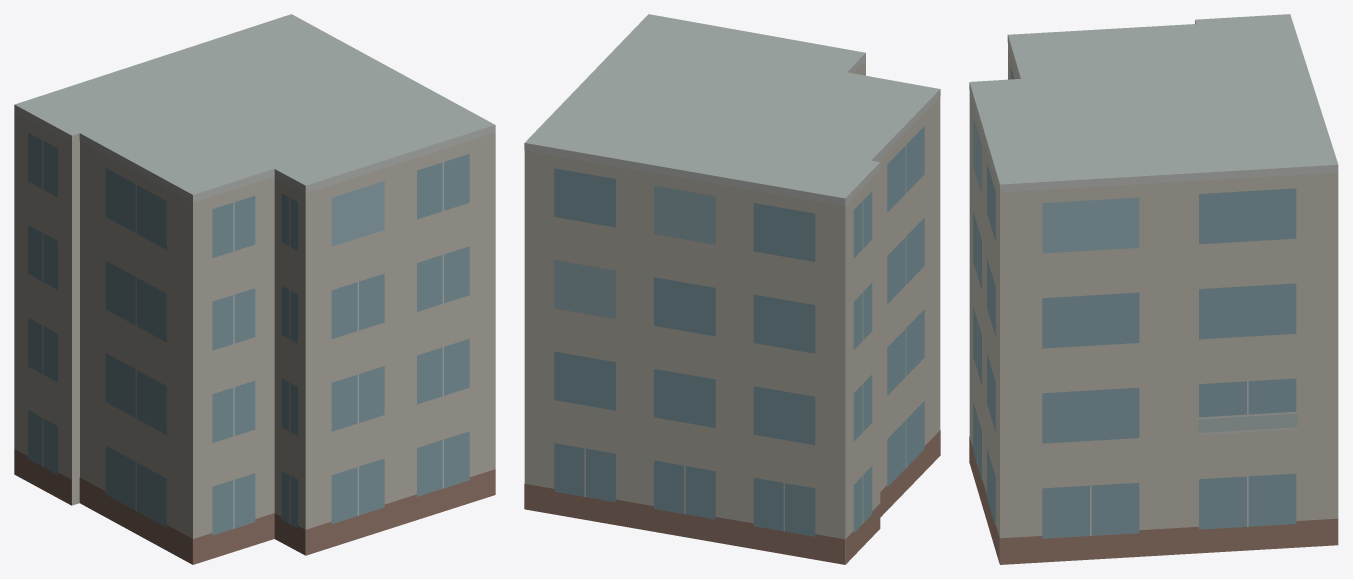
File: survey-upis-32721247.glb
3 renders of one model, left to right at view 1: azimuth 30°, elevation 25°; view 2: azimuth 150°, elevation 25°; view 3: azimuth 270°, elevation 25°, orthographic. The views are drawn at different scales.
Visible parts, largest first — view 1: survey-upis-32721247.tmp; view 2: survey-upis-32721247.tmp; view 3: survey-upis-32721247.tmp.
Boxes of the visible parts, box(x1,y1,x2,y2) form: survey-upis-32721247.tmp: box(14, 14, 495, 564); survey-upis-32721247.tmp: box(524, 14, 940, 564); survey-upis-32721247.tmp: box(969, 14, 1338, 564).
Size of the model in its own units: 11.36 by 11.8 by 10.39.
